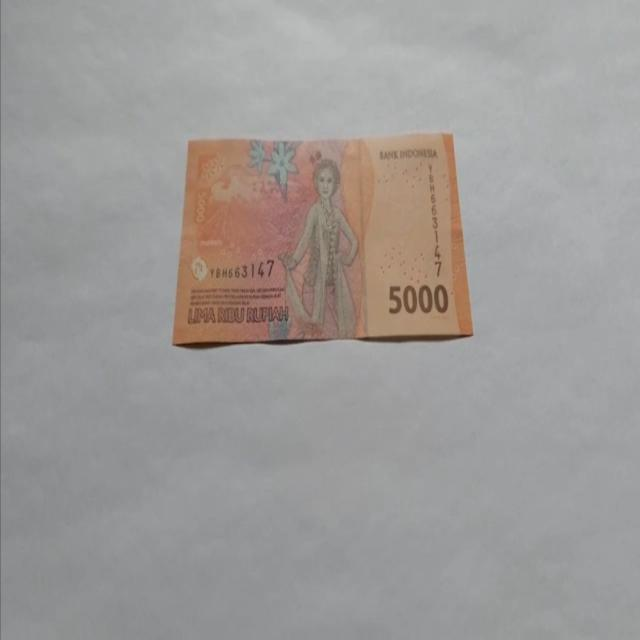lima ribu rupiah: (172, 132, 474, 346), (277, 158, 360, 340)
